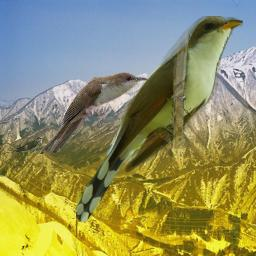Cuckoo: (76, 16, 243, 222), (39, 72, 148, 154), (1, 136, 42, 154)
